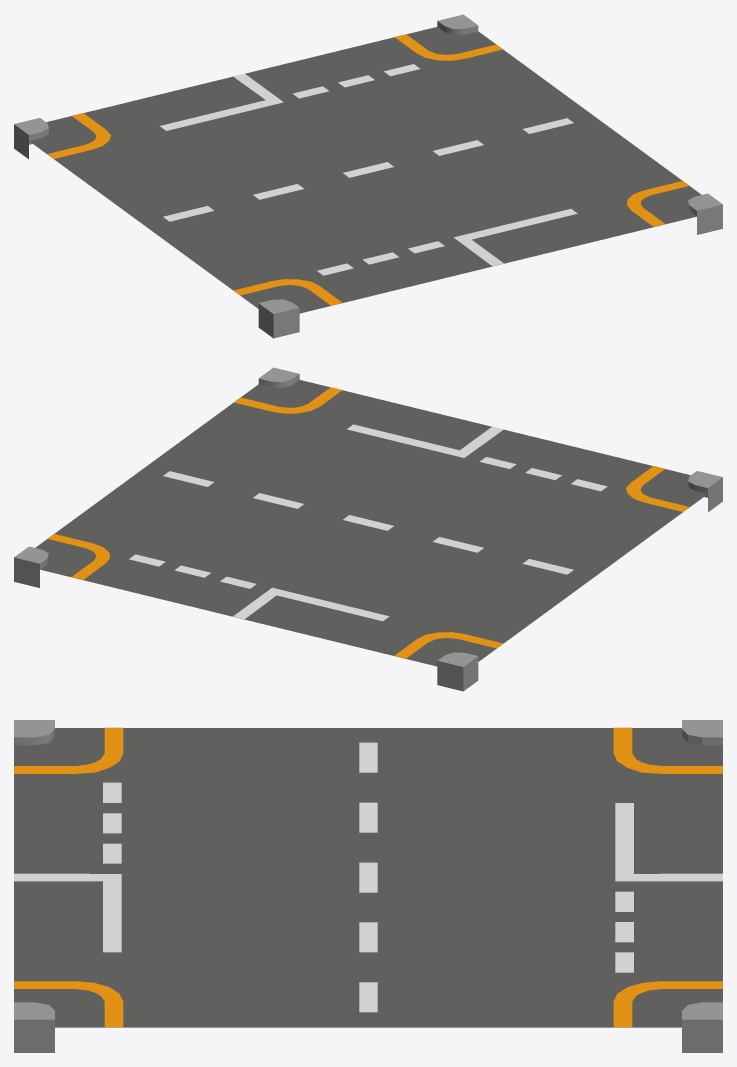
File: Road_B_7.fbx
The picture shows the model from 3 angles, top to bottom: view 1: azimuth 30°, elevation 25°; view 2: azimuth 150°, elevation 25°; view 3: azimuth 270°, elevation 25°; orthographic projection. The views are drawn at different scales.
Visible parts, largest first — view 1: Road_B_7; view 2: Road_B_7; view 3: Road_B_7.
Boxes of the visible parts, <box> form: Road_B_7: <box>14,14,722,338</box>; Road_B_7: <box>14,367,722,691</box>; Road_B_7: <box>14,720,722,1052</box>.
Size of the model in its own units: 800 by 41.48 by 800.
